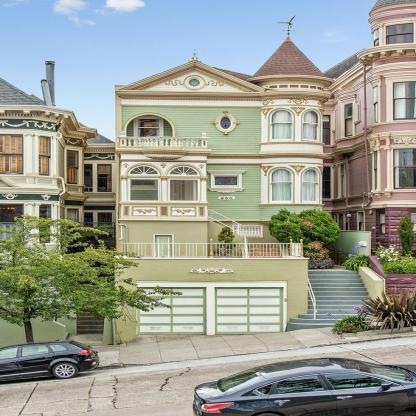Balcony: (119, 243, 303, 271), (122, 204, 207, 220), (117, 137, 208, 149)
Building Outline: (114, 16, 386, 346)
Cornice: (268, 166, 295, 203), (268, 107, 295, 142), (300, 167, 320, 203), (301, 108, 321, 143), (207, 170, 246, 174)
Deco: (188, 267, 236, 274), (260, 107, 274, 119), (260, 165, 274, 176), (288, 165, 305, 174), (290, 107, 306, 116), (318, 108, 325, 118), (218, 196, 235, 200), (317, 166, 324, 175)
Door: (137, 287, 206, 335), (215, 287, 283, 335), (171, 176, 194, 212), (137, 118, 160, 150), (155, 236, 172, 264)
Facade: (114, 15, 387, 346)
Molding: (136, 68, 251, 93), (121, 97, 326, 102), (207, 156, 325, 160), (119, 152, 210, 156)
Roof: (211, 41, 327, 81)
Sill: (258, 141, 326, 146), (207, 188, 246, 194), (257, 204, 325, 206)
Window: (126, 115, 173, 149), (271, 169, 291, 201), (170, 180, 198, 200), (130, 180, 158, 200), (272, 110, 291, 139), (303, 169, 318, 201), (303, 111, 318, 140), (235, 227, 261, 236), (130, 166, 158, 174), (170, 167, 198, 174), (215, 177, 237, 185), (132, 178, 154, 185)
